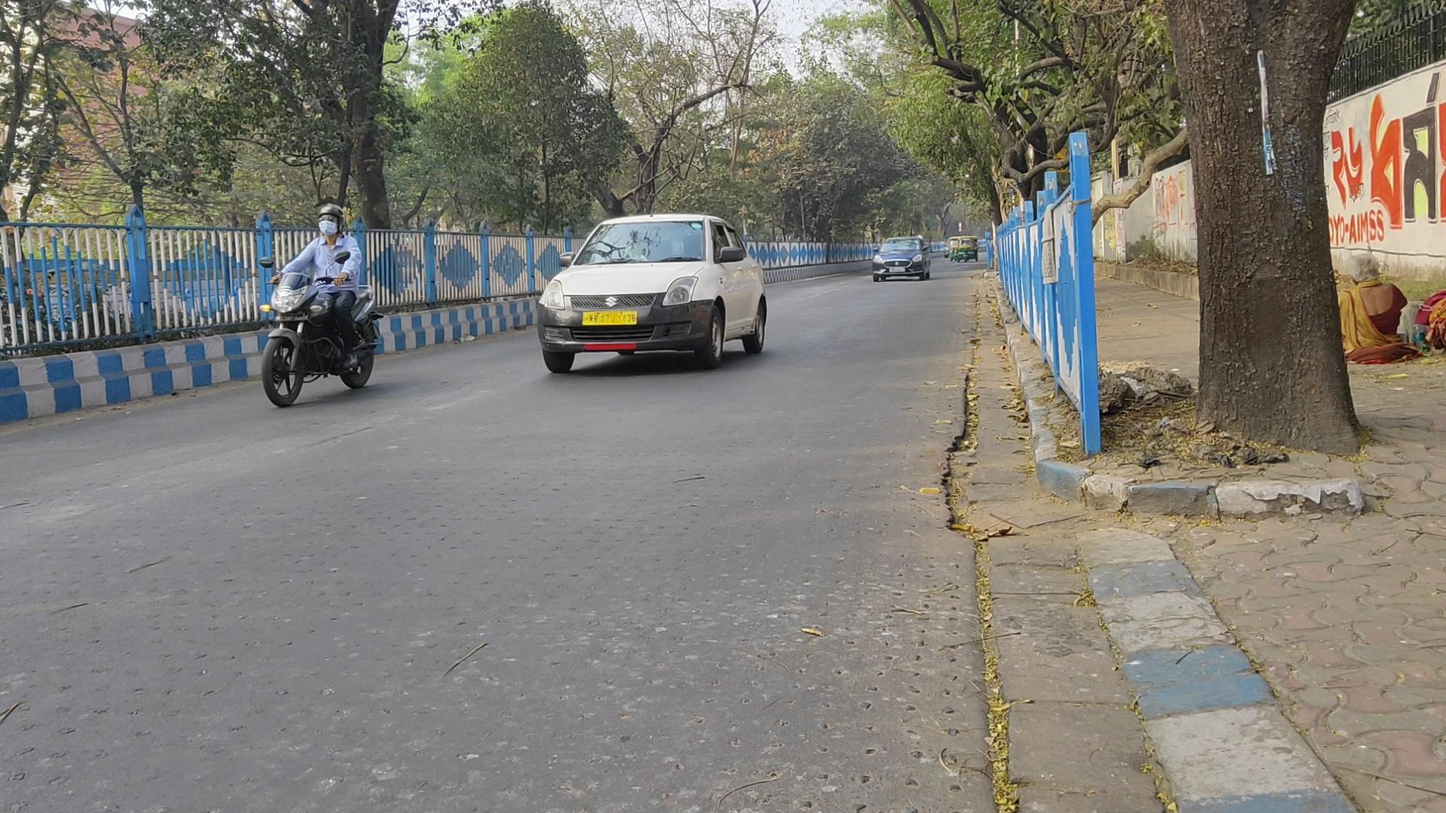Auto: (956, 236, 978, 262), (947, 236, 962, 262)
bike: (260, 203, 382, 406)
car: (535, 212, 767, 373), (872, 235, 932, 285)
